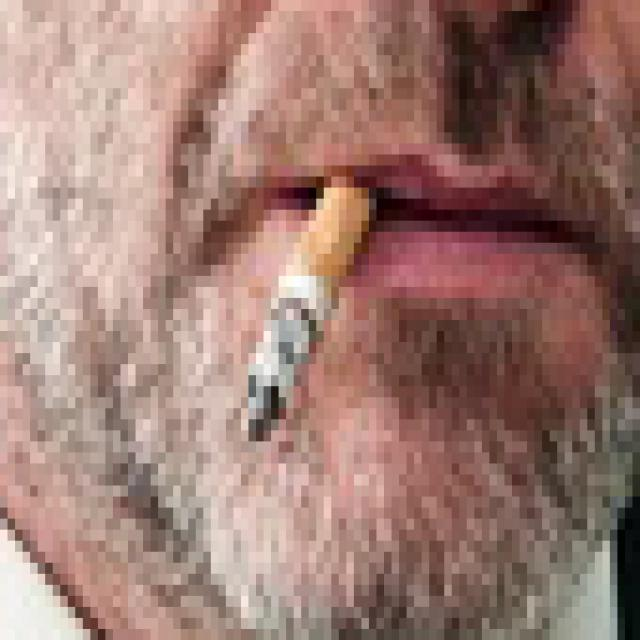smoking: (245, 175, 374, 436)
